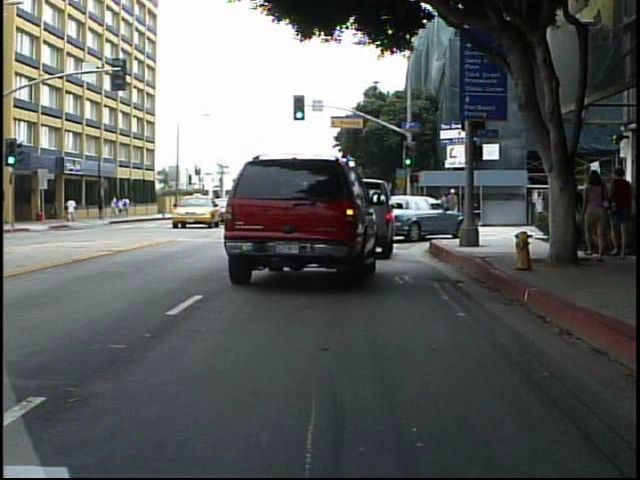person: (578, 167, 609, 266), (609, 167, 636, 262), (446, 185, 464, 228), (65, 193, 80, 225)
